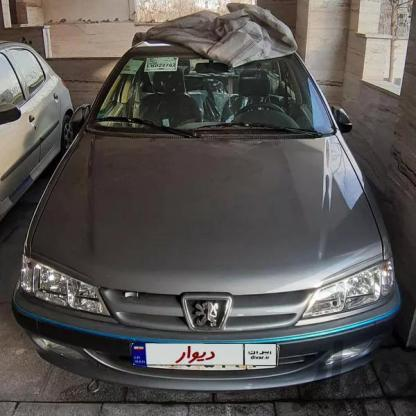Car: (17, 0, 400, 416), (0, 29, 69, 243)
